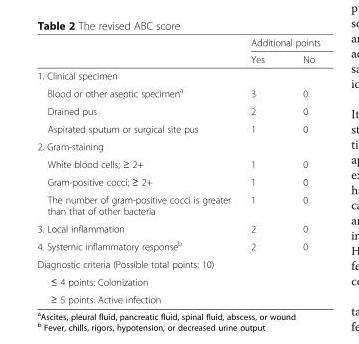table: (36, 36, 319, 304)
table column: (36, 36, 240, 304), (240, 36, 283, 304), (283, 36, 319, 304)
table column header: (36, 36, 319, 67)
table projected row header: (36, 254, 319, 272), (36, 272, 319, 290), (36, 137, 319, 154), (36, 67, 319, 83)
table row: (36, 190, 319, 219), (36, 83, 319, 102), (36, 119, 319, 137), (36, 154, 319, 172), (36, 172, 319, 190), (36, 236, 319, 254), (36, 254, 319, 272), (36, 272, 319, 290), (36, 50, 319, 67), (36, 102, 319, 119), (36, 137, 319, 154), (36, 219, 319, 236), (36, 67, 319, 83), (36, 36, 319, 50), (36, 290, 319, 304)
table spanning cell: (240, 36, 319, 50)
